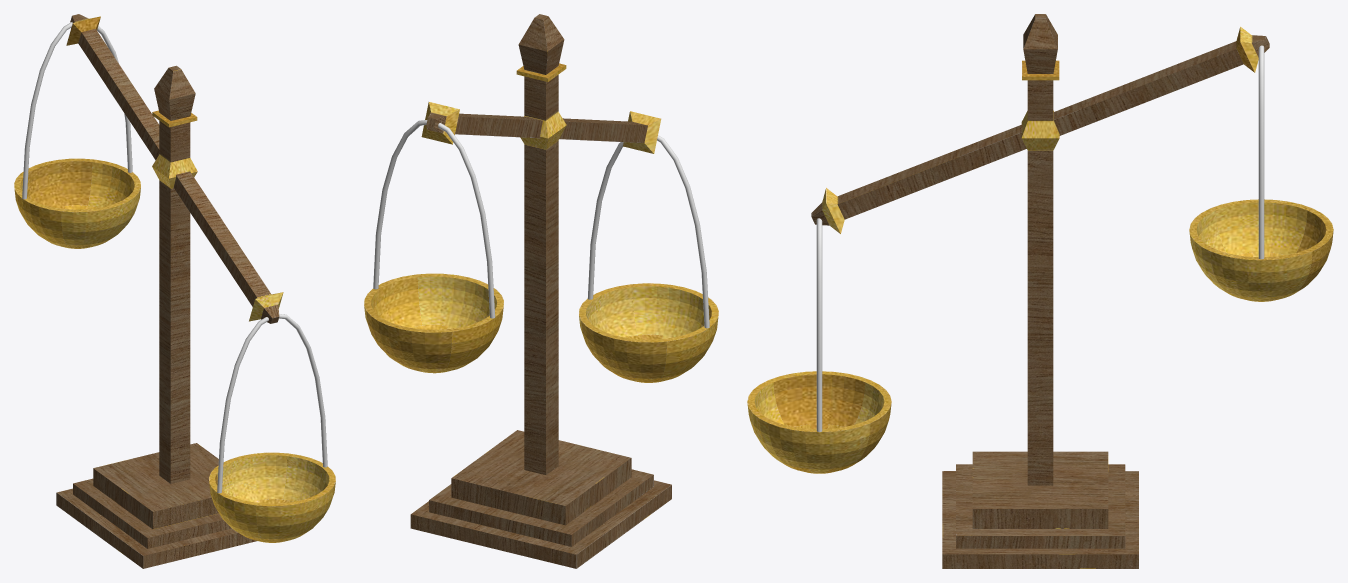
The model's file is Desbalanceado.fbx.
The picture shows the model from 3 angles, left to right: view 1: azimuth 30°, elevation 25°; view 2: azimuth 150°, elevation 25°; view 3: azimuth 270°, elevation 25°; orthographic projection. The views are drawn at different scales.
Visible parts, largest first — view 1: 000_Desbalanceado, 000_DesbalanceadoC2, 000_DesbalanceadoC1; view 2: 000_Desbalanceado, 000_DesbalanceadoC1, 000_DesbalanceadoC2; view 3: 000_Desbalanceado, 000_DesbalanceadoC2, 000_DesbalanceadoC1.
Boxes of the visible parts, x1,y1,x2,y2 form: 000_Desbalanceado: [14, 14, 335, 568]; 000_DesbalanceadoC2: [217, 314, 327, 493]; 000_DesbalanceadoC1: [22, 22, 132, 199]; 000_Desbalanceado: [364, 14, 718, 568]; 000_DesbalanceadoC1: [373, 120, 495, 318]; 000_DesbalanceadoC2: [587, 135, 709, 328]; 000_Desbalanceado: [747, 14, 1333, 568]; 000_DesbalanceadoC2: [816, 218, 822, 432]; 000_DesbalanceadoC1: [1258, 45, 1264, 259].
Size of the model in its own units: 71.62 by 205 by 213.
Materials: 2 (1 with a texture image).
